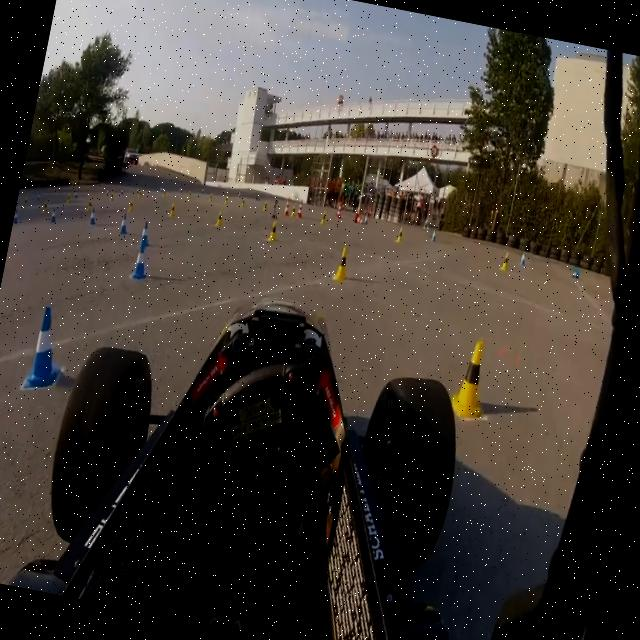blue_cone: (23, 303, 74, 394), (130, 240, 154, 283), (137, 218, 154, 250), (118, 214, 130, 237), (88, 208, 98, 228), (50, 206, 59, 224), (12, 208, 20, 225)
large_orange_cone: (296, 198, 306, 220), (334, 200, 345, 220), (283, 197, 293, 218)
yellow_cone: (448, 335, 496, 422), (332, 243, 354, 284), (213, 208, 226, 230), (268, 221, 280, 244), (499, 251, 511, 272), (167, 200, 178, 220), (396, 227, 406, 246), (318, 210, 328, 227), (290, 204, 298, 219)
